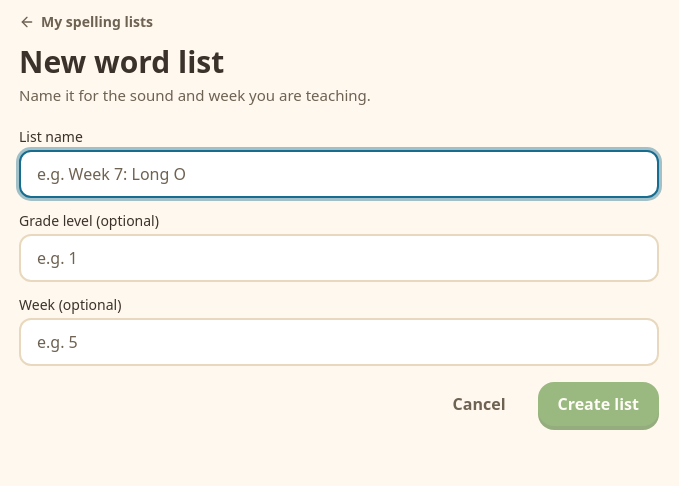
Test: NewListForm › shows an inline error when creating fails
The width and height of the screenshot is (679, 486).
Type "Week 7" into the field labelled "List name" at coordinates (339, 174), box [19,150,659,198]
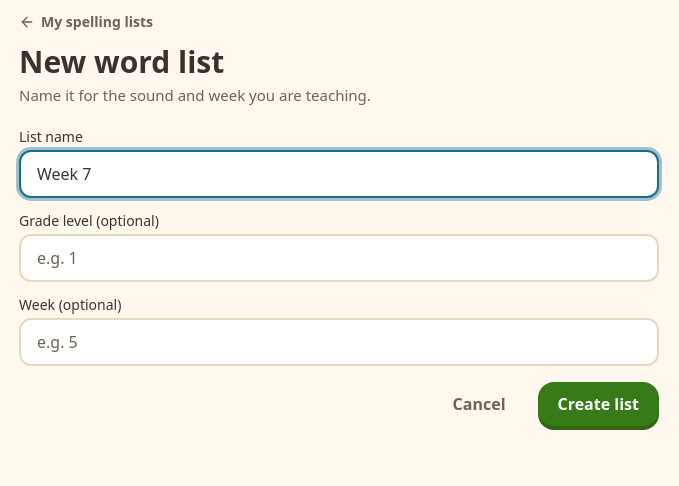
Click the button "Create list" at coordinates (598, 404), box [538,382,659,426]
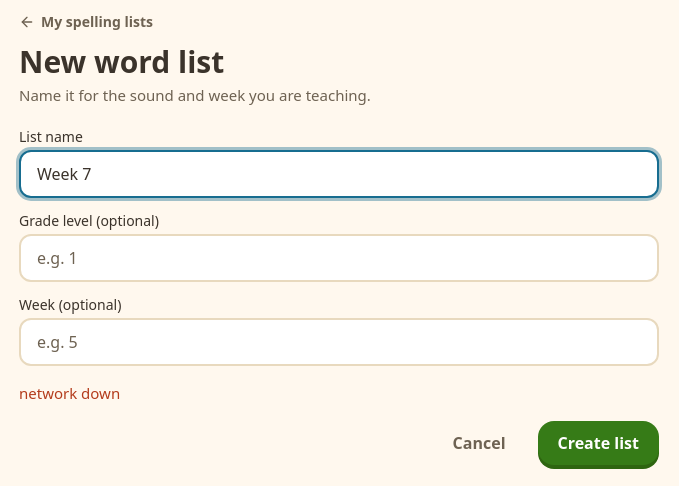
Result: the button "Create list" is enabled at [538,420,659,464]
Result: the message reads "network down" at [19,383,120,403]
